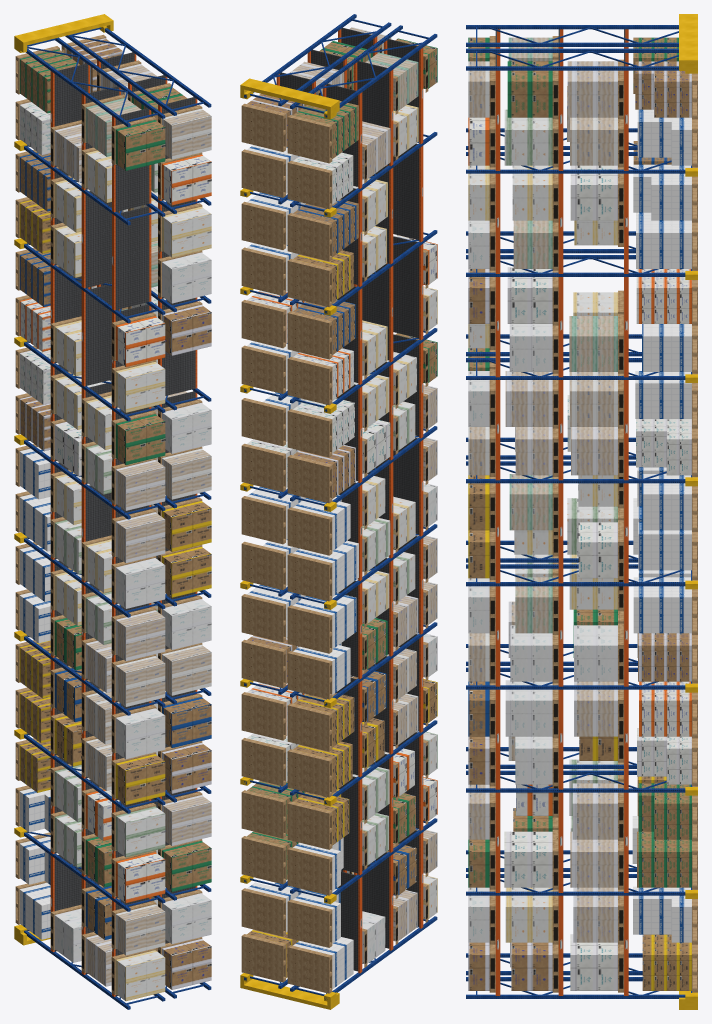
Rendered from racks_e2_n.gltf.
The picture shows the model from 3 angles, left to right: view 1: azimuth 30°, elevation 25°; view 2: azimuth 150°, elevation 25°; view 3: azimuth 270°, elevation 25°; orthographic projection. The views are drawn at different scales.
Visible parts, largest first — view 1: racks_e2_n; view 2: racks_e2_n; view 3: racks_e2_n.
Part boxes in pixels (left/top/right/bottom): racks_e2_n: left=14, top=14, right=211, bottom=1009; racks_e2_n: left=240, top=14, right=437, bottom=1009; racks_e2_n: left=466, top=14, right=697, bottom=1009.
Size of the model in its own units: 2.6 by 24.86 by 5.5.
Materials: 21 (21 with a texture image).
